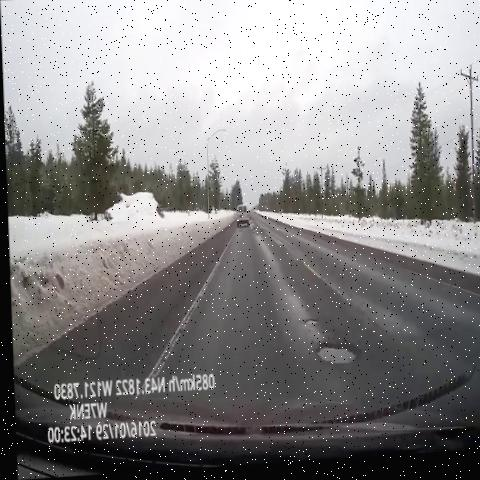pothole: (308, 338, 361, 391), (292, 306, 324, 341), (245, 221, 267, 251)
